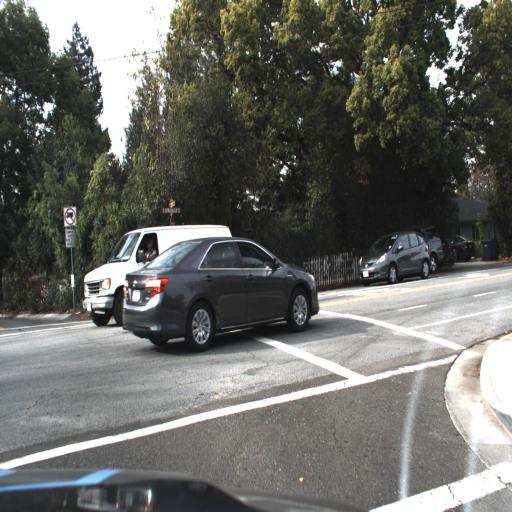car: (119, 232, 323, 356), (81, 221, 233, 322), (358, 226, 430, 284), (452, 232, 478, 265)
